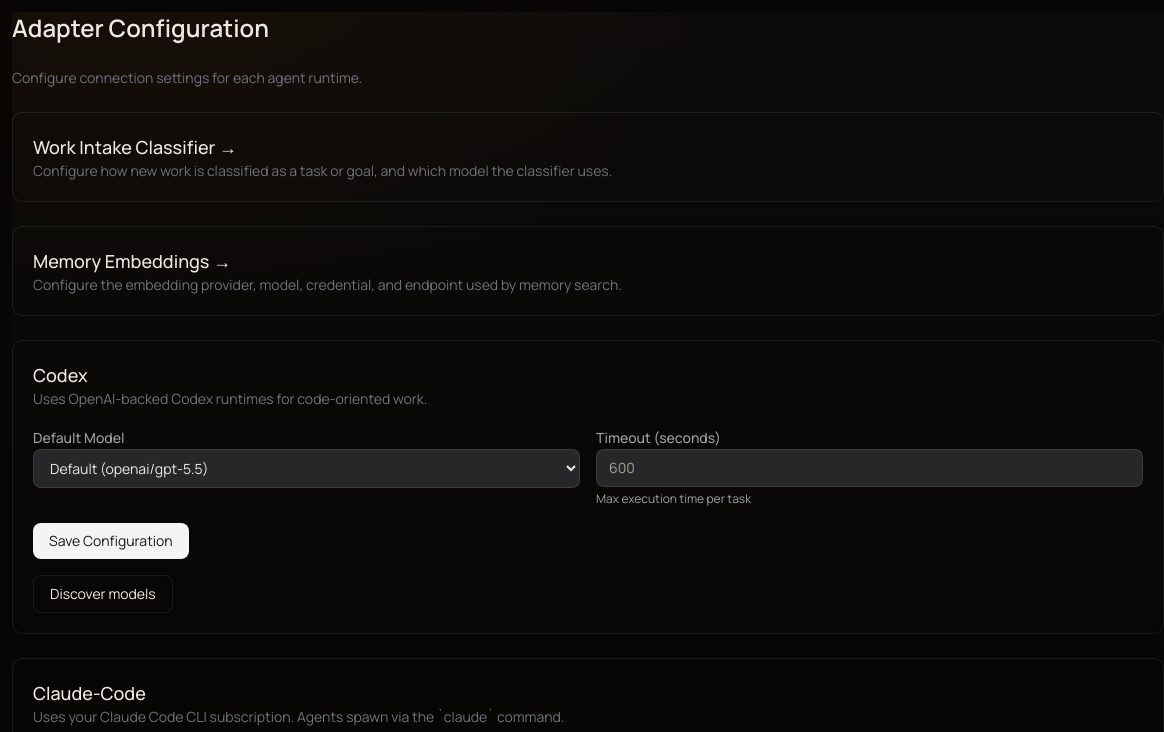
AdapterSettingsPage › runs adapter model discovery for the selected hive
The image size is (1164, 732).
Expected: the heading "Adapter Configuration" is shown, [12,11,269,44]
Click the button with aria-label "Discover codex models" at x=103, y=594, box [33,575,173,613]
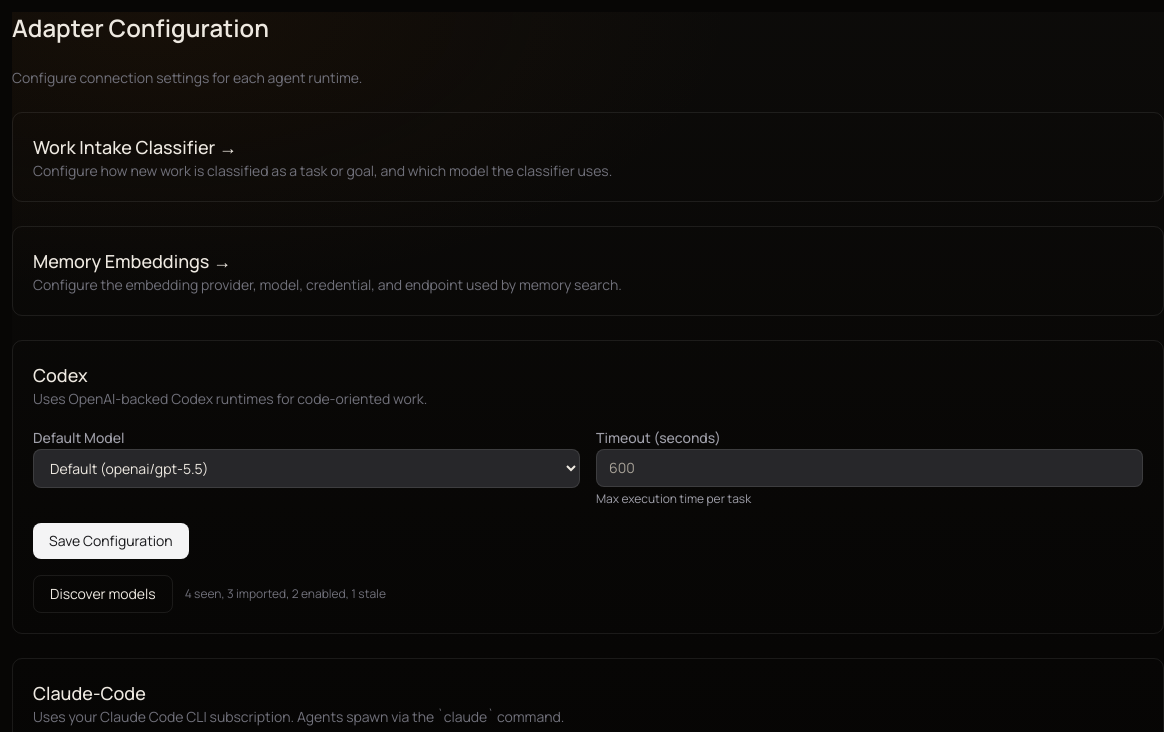
Expected: the text "4 seen, 3 imported, 2 enabled, 1 stale" is shown, [185,586,386,602]
